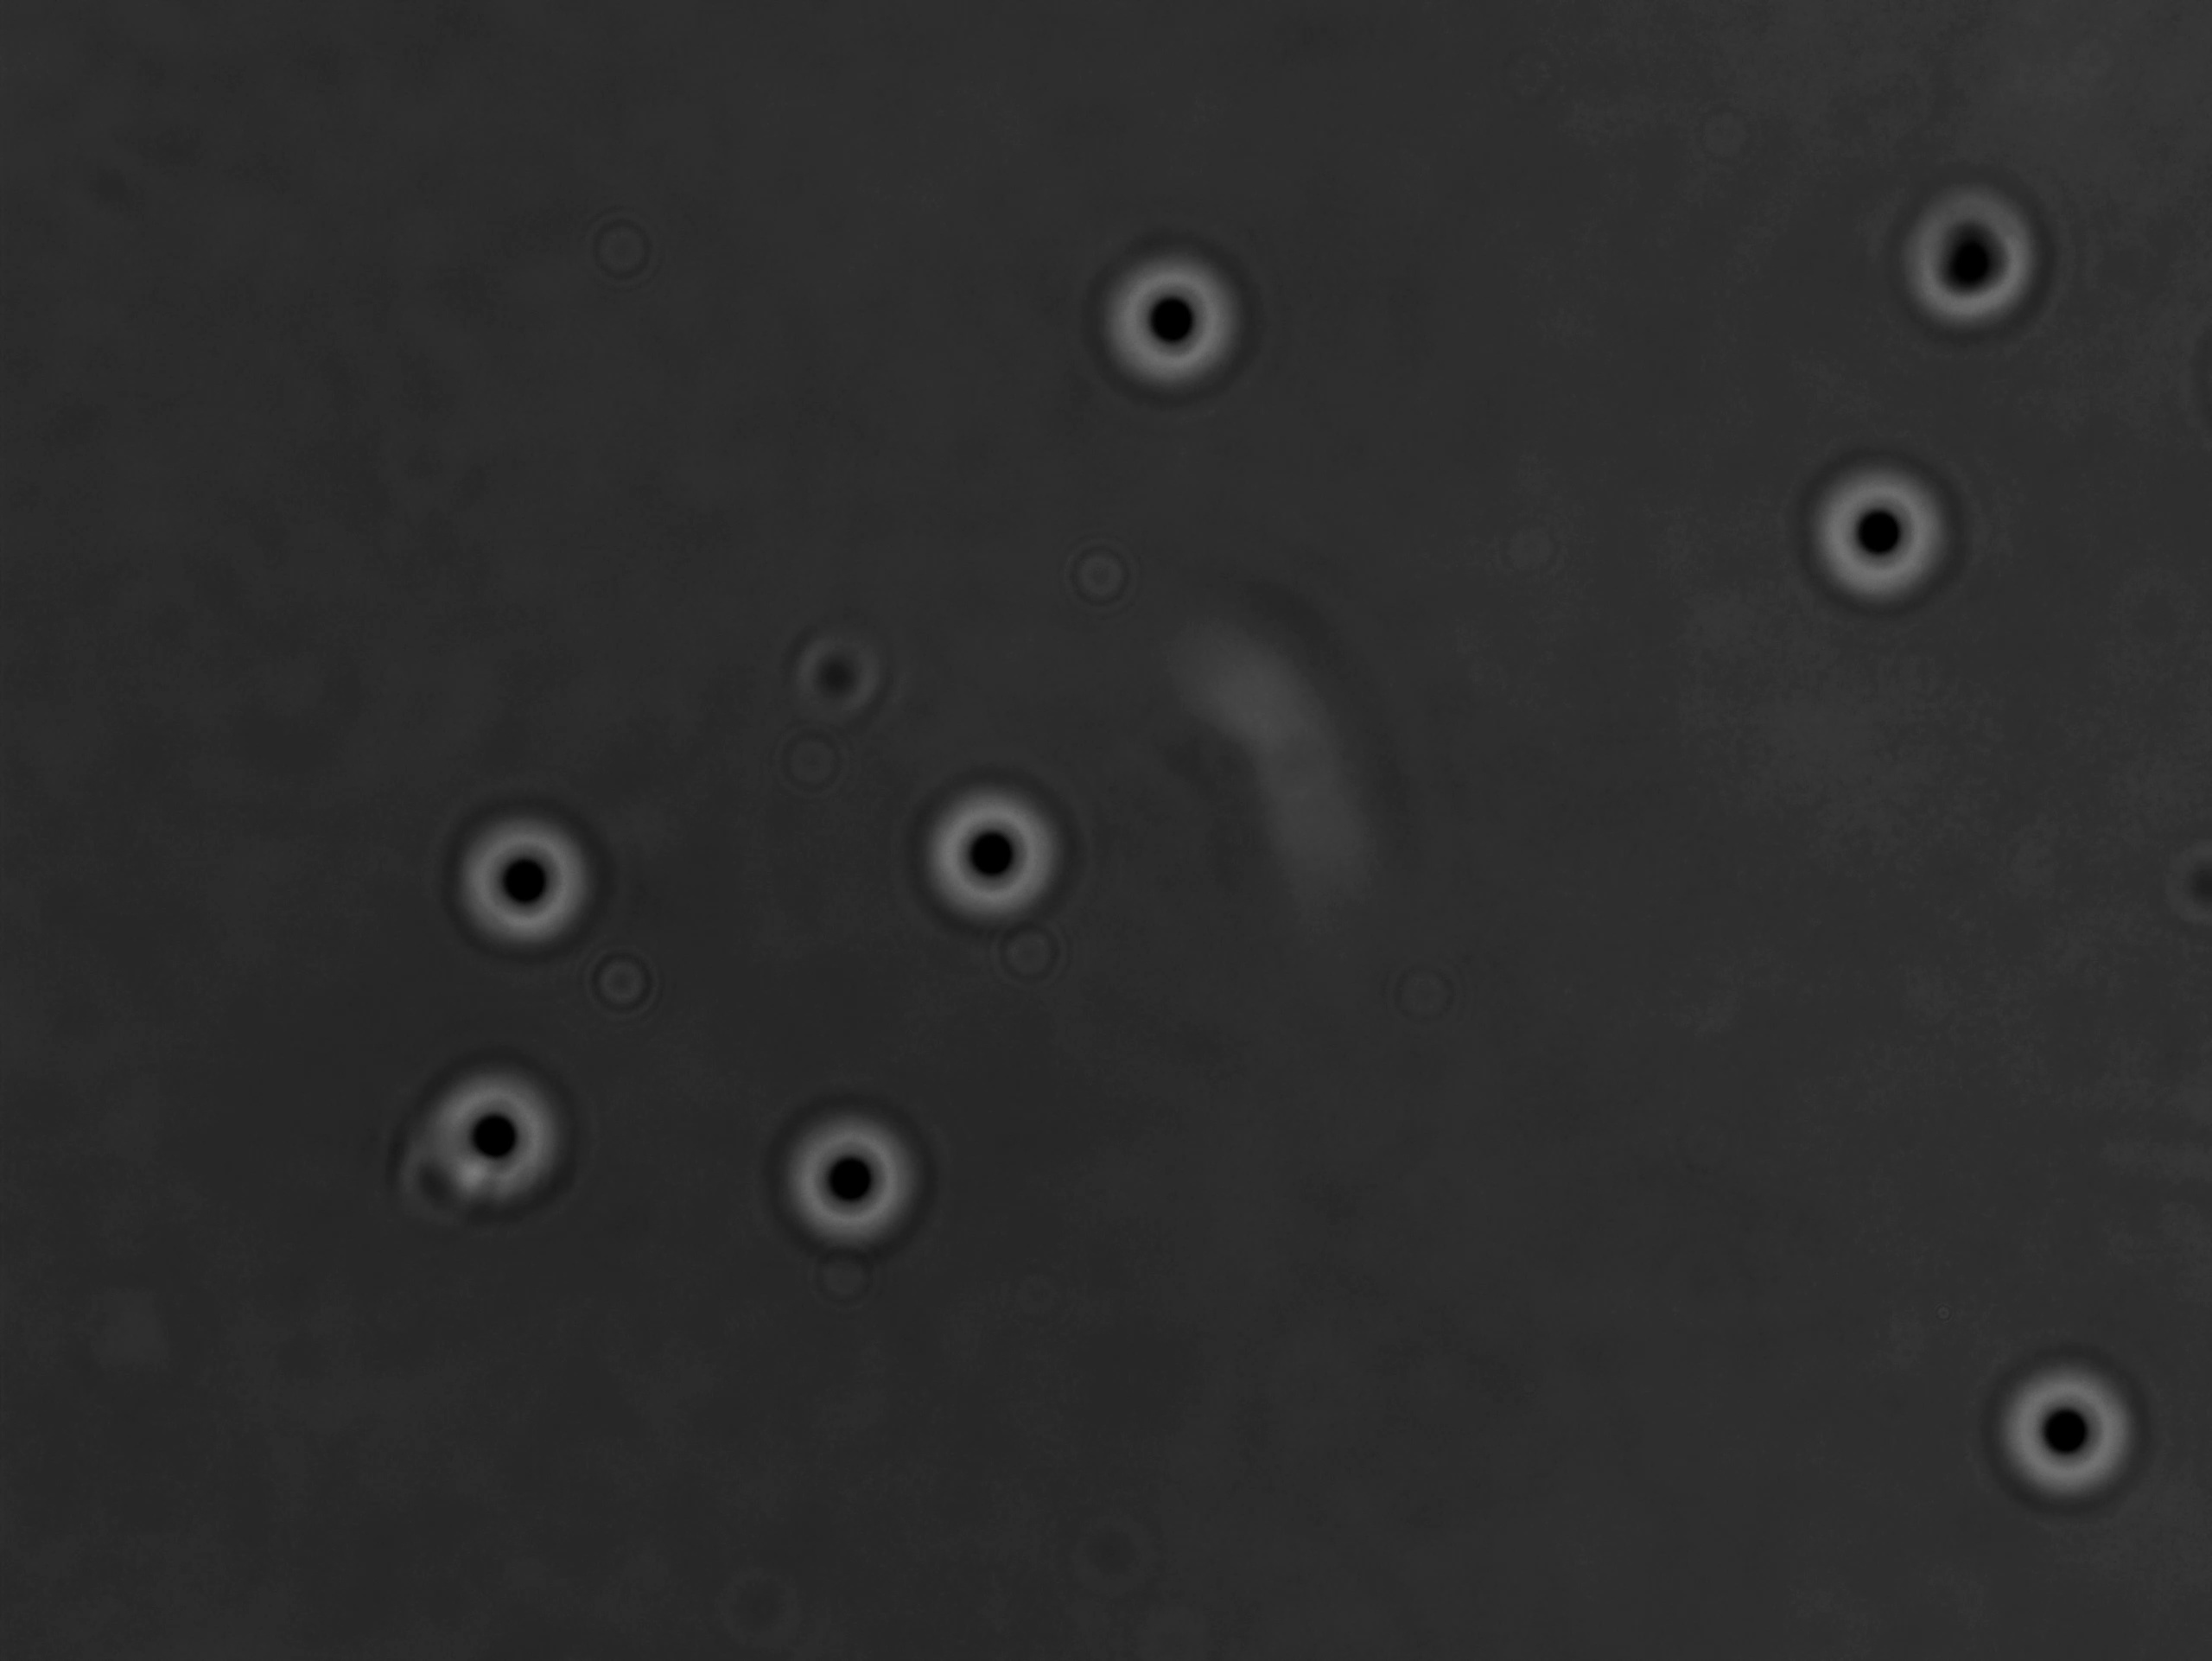depth:-40: (1968, 1338, 2174, 1525), (1781, 438, 1970, 621), (1085, 227, 1270, 410), (898, 764, 1083, 935), (1889, 174, 2069, 349), (443, 790, 616, 967), (761, 1083, 932, 1256), (419, 1052, 584, 1223)
